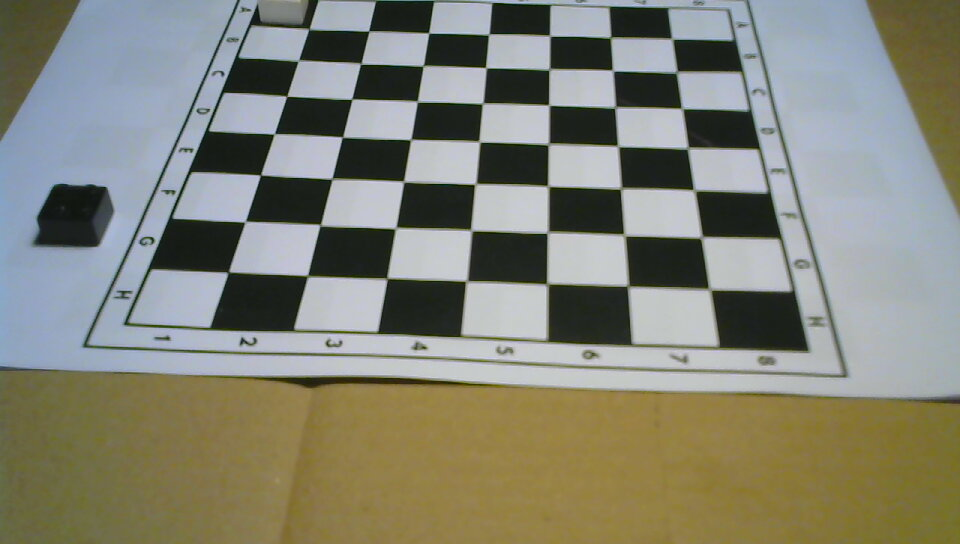bp: (37, 181, 114, 247)
wp: (258, 1, 309, 27)
